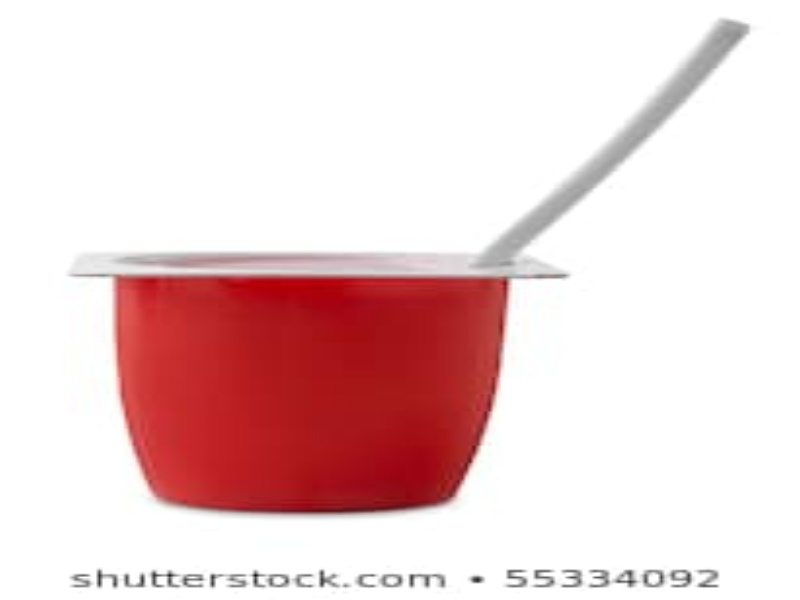yogurt-cup: (68, 245, 575, 523)
